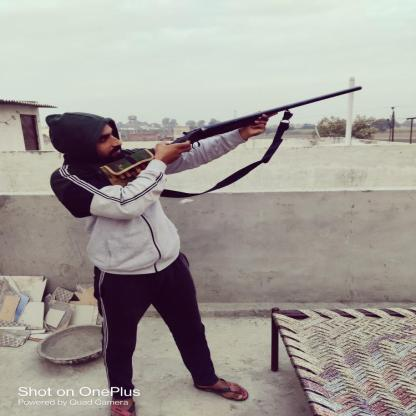rifle: (96, 84, 364, 190)
